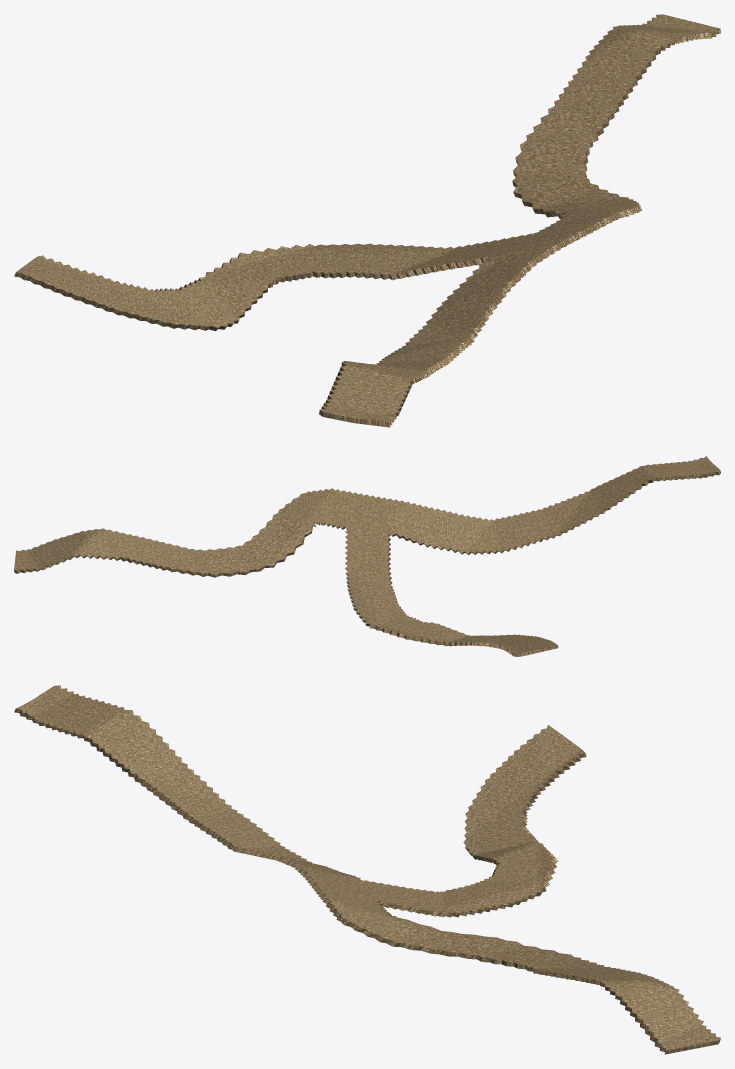
File: Level3B1road.fbx
3 views of the same model, one above another, from view 1: azimuth 30°, elevation 25°; view 2: azimuth 150°, elevation 25°; view 3: azimuth 270°, elevation 25° (orthographic). The views are drawn at different scales.
Parts seen in each view (by area): view 1: Plane, Plane.001; view 2: Plane, Plane.001; view 3: Plane, Plane.001.
Part boxes in pixels (x1,y1,x2,y2): Plane: (319, 14, 720, 427); Plane.001: (14, 233, 533, 331); Plane: (14, 456, 720, 577); Plane.001: (345, 528, 558, 656); Plane: (14, 685, 720, 1054); Plane.001: (359, 725, 586, 917).
Size of the model in its own units: 4513 by 704 by 4055.
